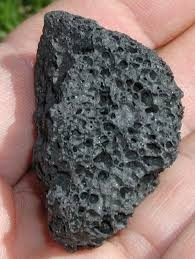obstacle: (34, 11, 182, 249)
